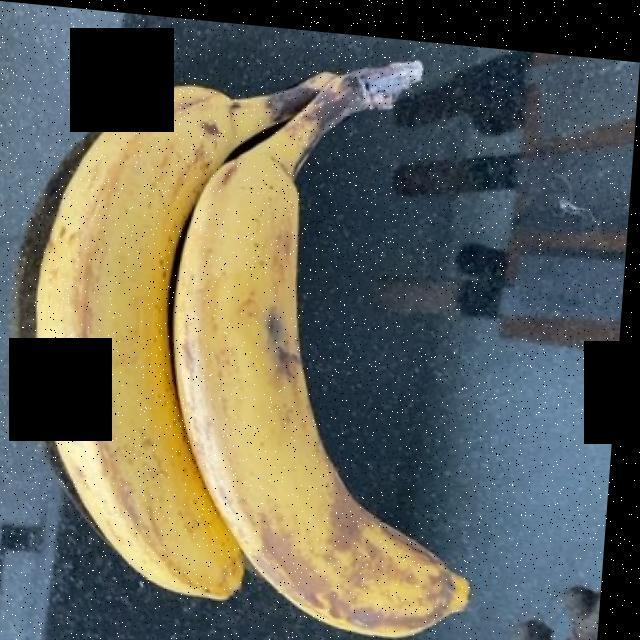banana: (34, 82, 470, 627)
